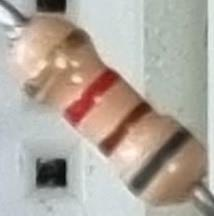Brown: (95, 97, 157, 161)
Green: (125, 123, 197, 202)
Red: (59, 64, 125, 131)
Side-Gold: (16, 24, 96, 101)
